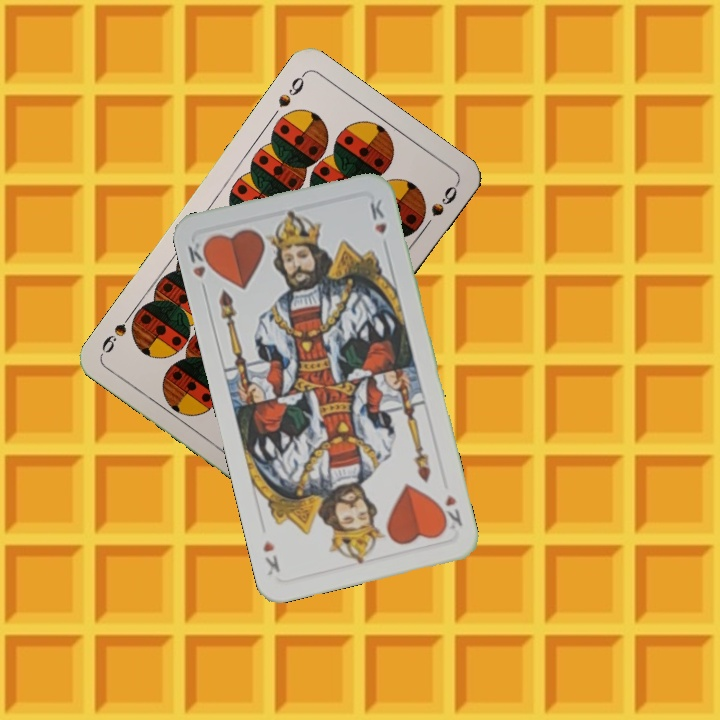HK: (183, 236, 216, 297), (435, 490, 465, 533)
S9: (273, 69, 308, 111)
